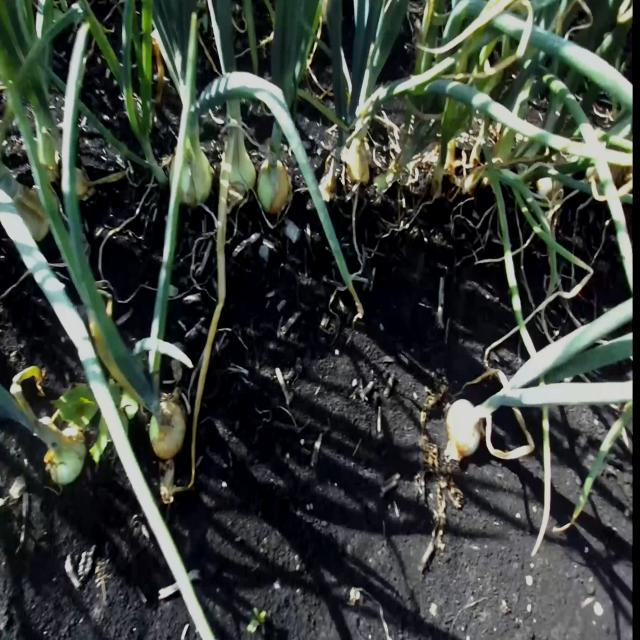onion: (444, 388, 487, 464), (42, 422, 87, 488), (148, 390, 187, 462), (174, 142, 212, 210), (256, 156, 290, 216), (19, 189, 52, 244), (222, 142, 254, 197), (343, 131, 372, 181)
